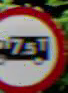Heavy Vehicles: (0, 5, 63, 89)
